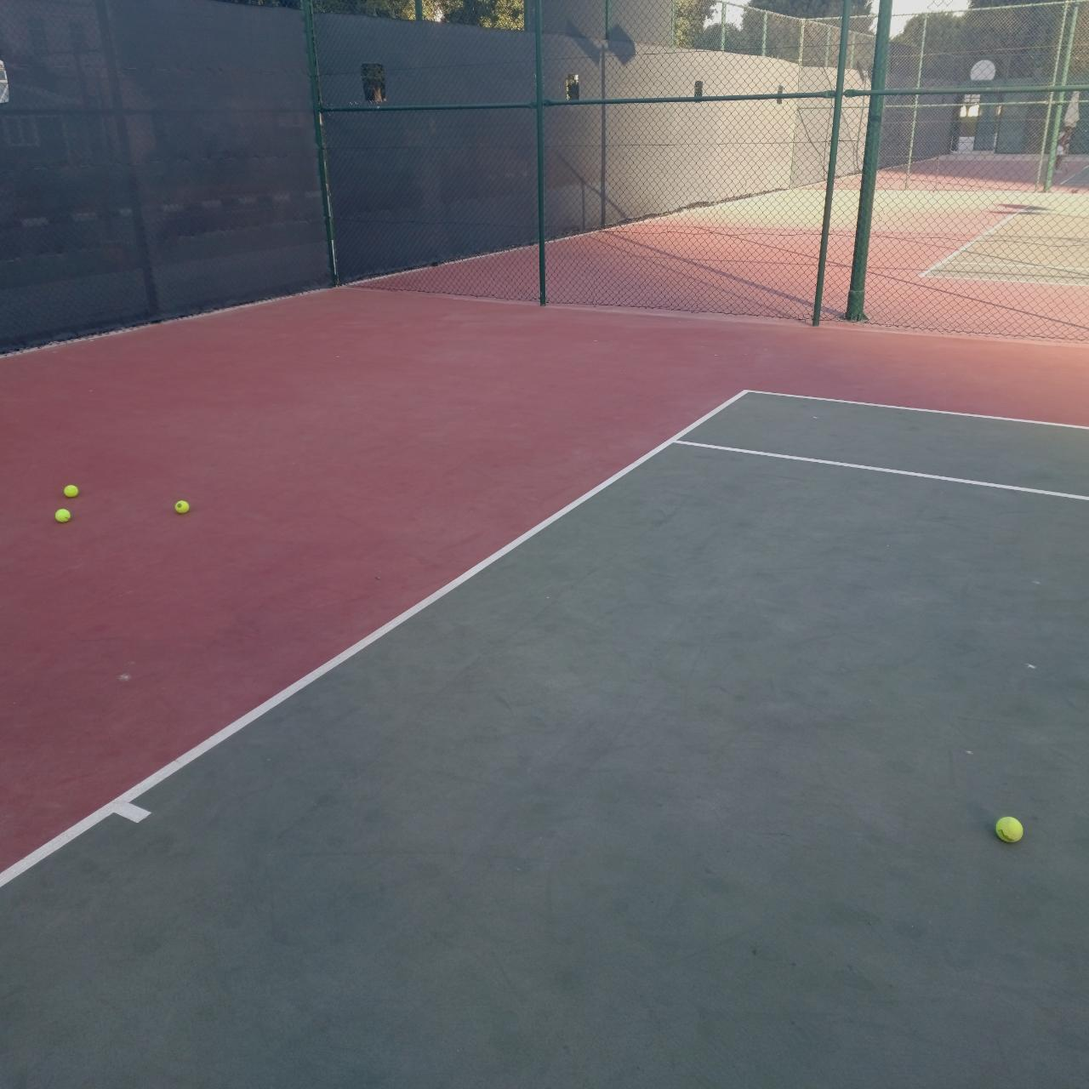tennis-ball: (995, 813, 1025, 844), (55, 505, 73, 523), (63, 482, 82, 499), (175, 498, 191, 514)
